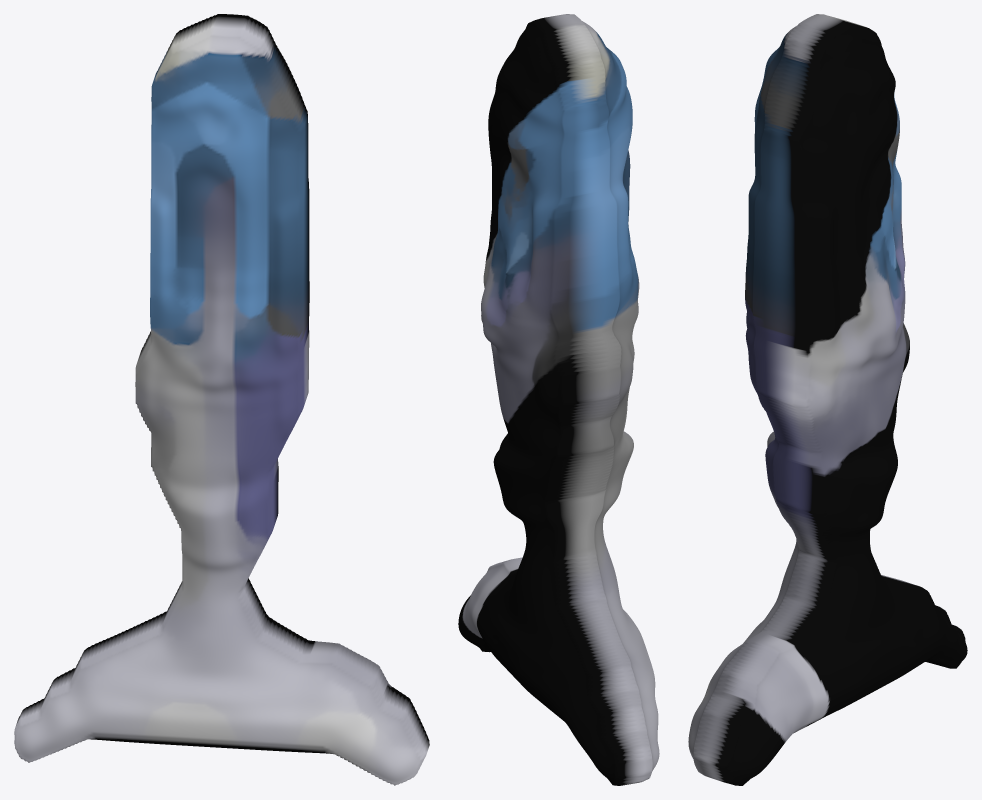
Rendered from dolphin.glb.
3 views of the same model, side by side, from view 1: azimuth 30°, elevation 25°; view 2: azimuth 150°, elevation 25°; view 3: azimuth 270°, elevation 25° (orthographic). The views are drawn at different scales.
Parts seen in each view (by area): view 1: dolphin; view 2: dolphin; view 3: dolphin.
Boxes of the visible parts, left/top/right/bottom form: dolphin: left=14, top=14, right=429, bottom=785; dolphin: left=458, top=14, right=659, bottom=785; dolphin: left=688, top=14, right=967, bottom=785.
Size of the model in its own units: 0.9498 by 2.23 by 0.7969.
